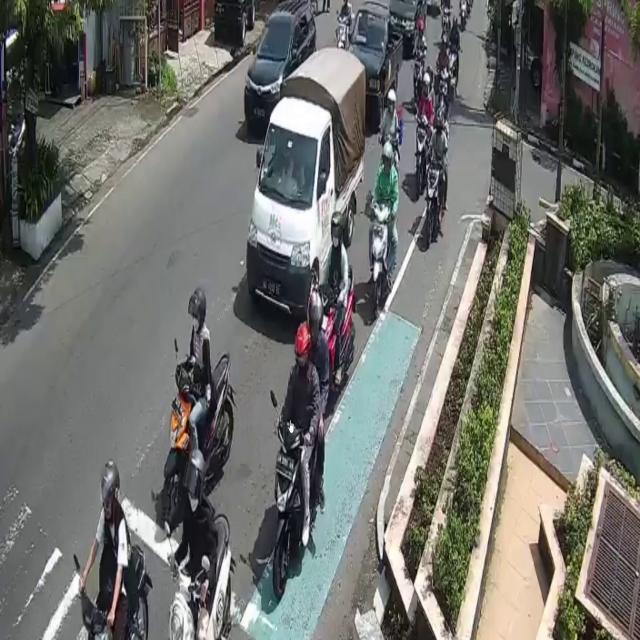bus: (164, 352, 234, 526), (172, 510, 233, 640), (270, 421, 313, 588), (369, 200, 391, 332), (428, 151, 440, 247)
motorcycle: (247, 95, 363, 317), (242, 0, 316, 130), (348, 2, 402, 122), (382, 0, 427, 51)
